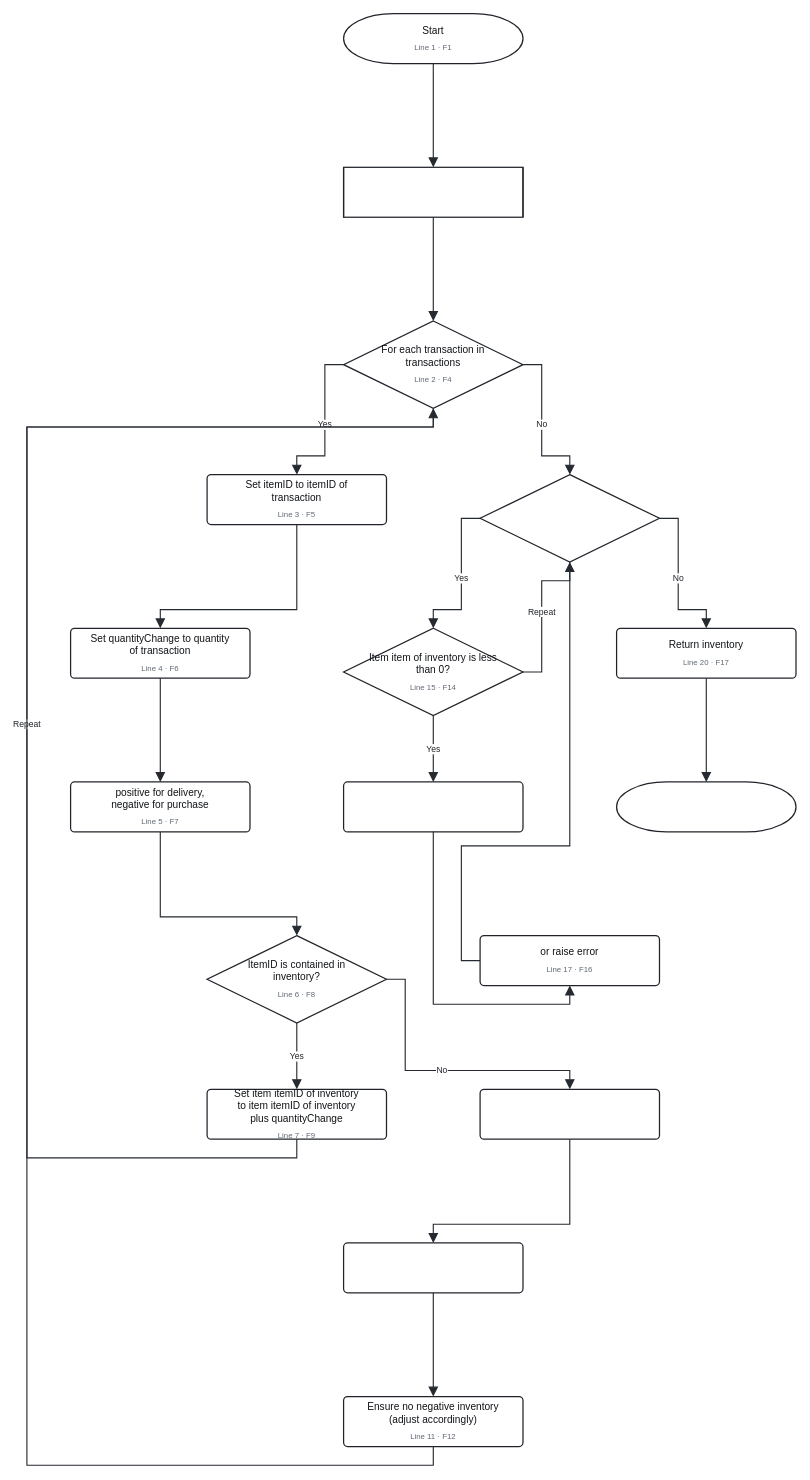
The diagram is 810 pixels wide and 1480 high, and some of its shapes have lost their labels. Here are the shapes that lost their labels. From the top down, the centre of each, then its label:
At point 433,191: "Run function updateInventory with inventory, transactions Line 1 · F3".
At point 569,518: "For each item in inventory Line 14 · F13".
At point 433,806: "Set item item of inventory to 0 Line 16 · F15".
At point 706,806: "End Line 1 · F2".
At point 569,1113: "Handle new item, maybe set initial stock Line 9 · F10".
At point 433,1267: "Set item itemID of inventory to quantityChange Line 10 · F11".
